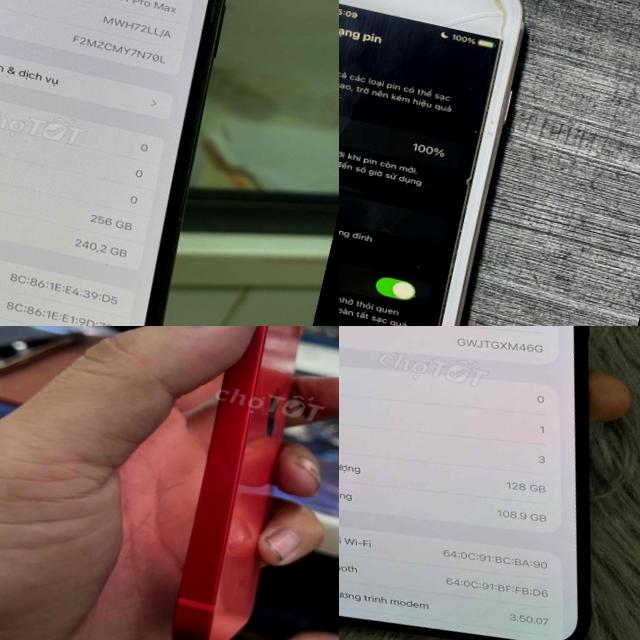physical_damage: (438, 0, 512, 40), (462, 174, 476, 188)
